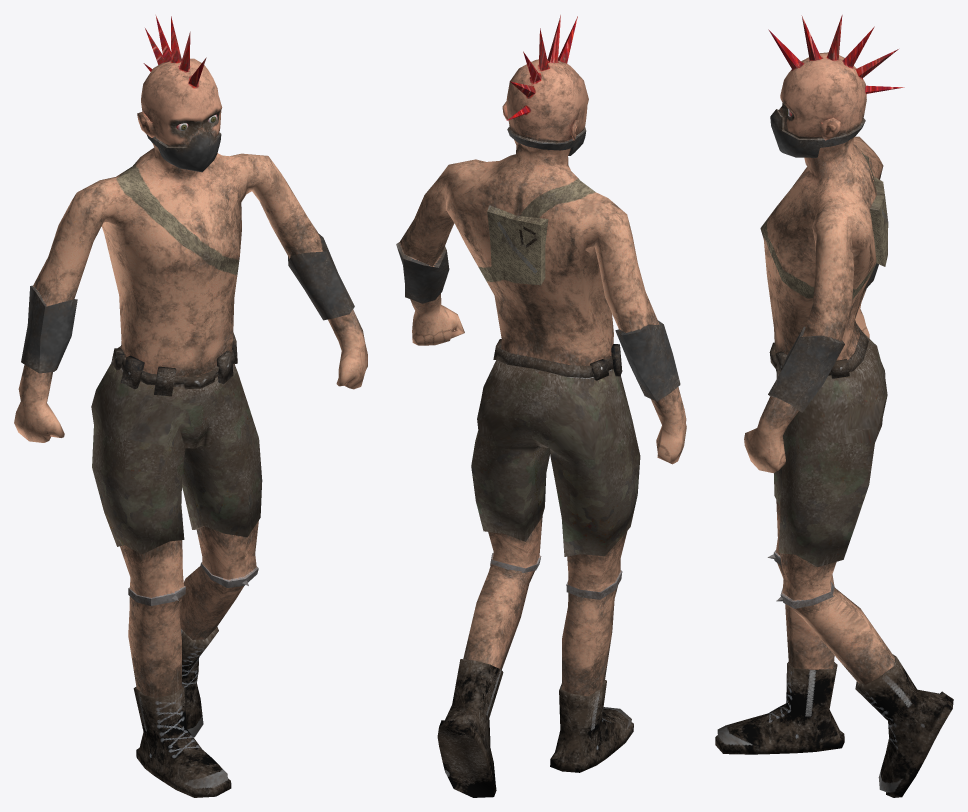
The model's file is Anim_andar_npc2.0028.obj.
3 renders of one model, left to right at view 1: azimuth 30°, elevation 25°; view 2: azimuth 150°, elevation 25°; view 3: azimuth 270°, elevation 25°, orthographic.
Visible parts, largest first — view 1: Anim_andar_npc2; view 2: Anim_andar_npc2; view 3: Anim_andar_npc2.
Boxes of the visible parts, x1,y1,x2,y2 form: Anim_andar_npc2: (14,15,367,797); Anim_andar_npc2: (396,15,686,797); Anim_andar_npc2: (715,15,953,797).
Bounding box in the file's own units: 4.49 × 10.46 × 2.96.
